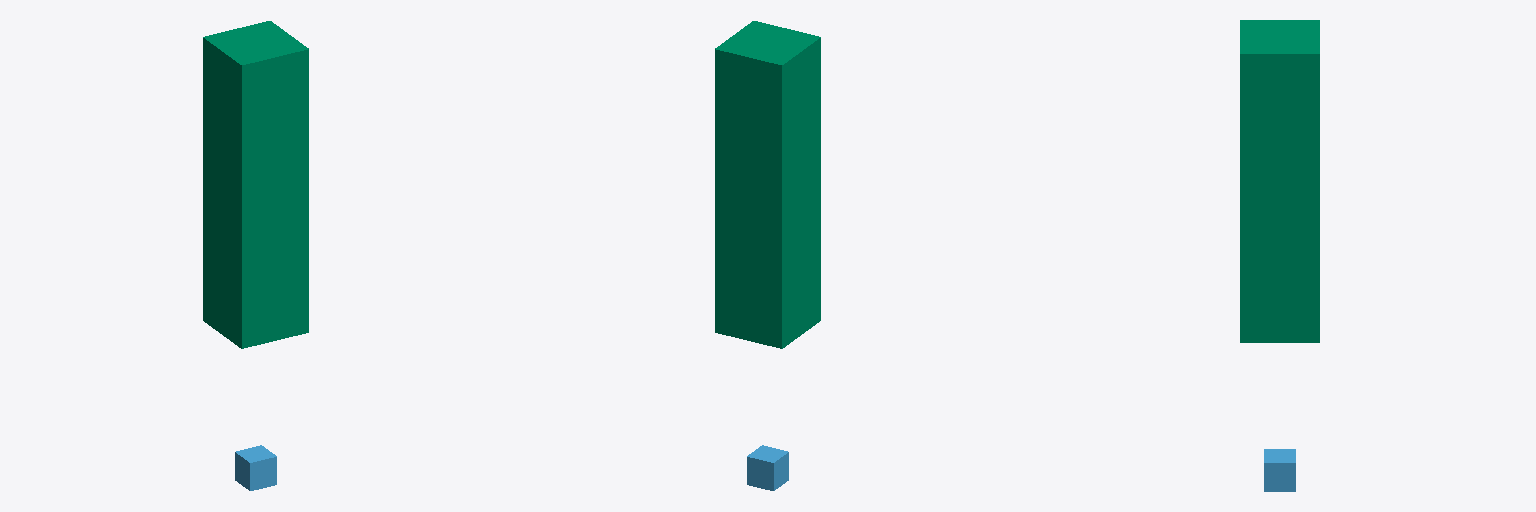
URDF robot description (articulation_root_visual_world):
<?xml version="1.0"?>
<robot name="articulation_root_visual_world">
  <link name="world"/>
  <link name="drawn">
    <visual>
      <geometry>
        <box size="0.02 0.02 0.02"/>
      </geometry>
    </visual>
  </link>
  <link name="arm">
    <inertial>
      <mass value="1"/>
      <inertia ixx="0.01" iyy="0.01" izz="0.01" ixy="0" ixz="0" iyz="0"/>
    </inertial>
    <visual>
      <geometry>
        <box size="0.05 0.05 0.2"/>
      </geometry>
    </visual>
  </link>

  <joint name="j1" type="fixed">
    <origin xyz="0 0 0.1"/>
    <parent link="world"/>
    <child link="drawn"/>
  </joint>
  <joint name="j2" type="revolute">
    <origin xyz="0 0 0.2"/>
    <parent link="drawn"/>
    <child link="arm"/>
    <axis xyz="0 0 1"/>
    <limit lower="-1" upper="1" effort="1" velocity="1"/>
  </joint>
</robot>

--- Render facts (derived) ---
Views: 3 orthographic renders of the robot side by side, from view 1: azimuth 30°, elevation 25°; view 2: azimuth 150°, elevation 25°; view 3: azimuth 270°, elevation 25°.
Model articulation_root_visual_world with 3 links and 2 joints (1 revolute, 1 fixed), rooted at world, posed every joint at zero.
Links seen in each view (by area): view 1: arm, drawn; view 2: arm, drawn; view 3: arm, drawn.
Link boxes in pixels (left/top/right/bottom): arm: left=203, top=21, right=308, bottom=348; drawn: left=235, top=445, right=276, bottom=490; arm: left=715, top=21, right=820, bottom=348; drawn: left=747, top=445, right=788, bottom=490; arm: left=1240, top=20, right=1319, bottom=342; drawn: left=1264, top=449, right=1295, bottom=491.
Size in the robot's own frame: 0.05 by 0.05 by 0.31 metres.
Geometry: primitives only (box / cylinder / sphere), no mesh files.
